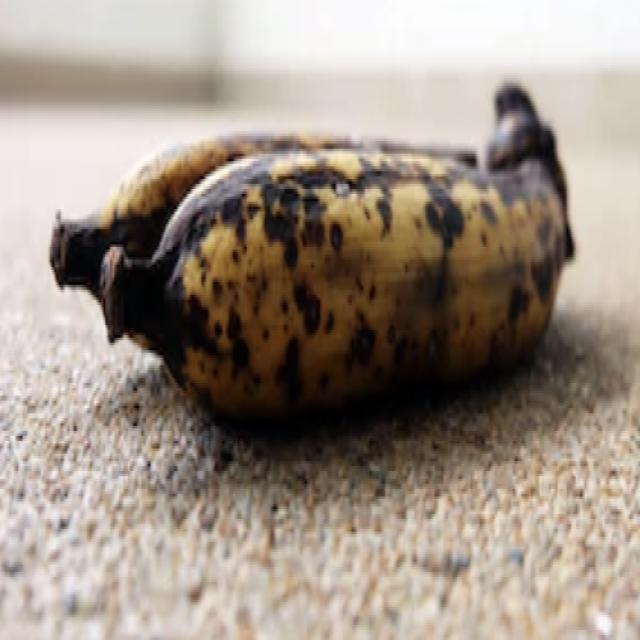rotten-banana: (80, 104, 566, 416)
